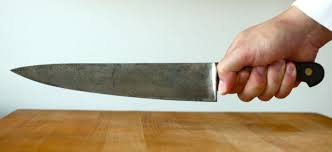knife: (6, 54, 326, 105)
